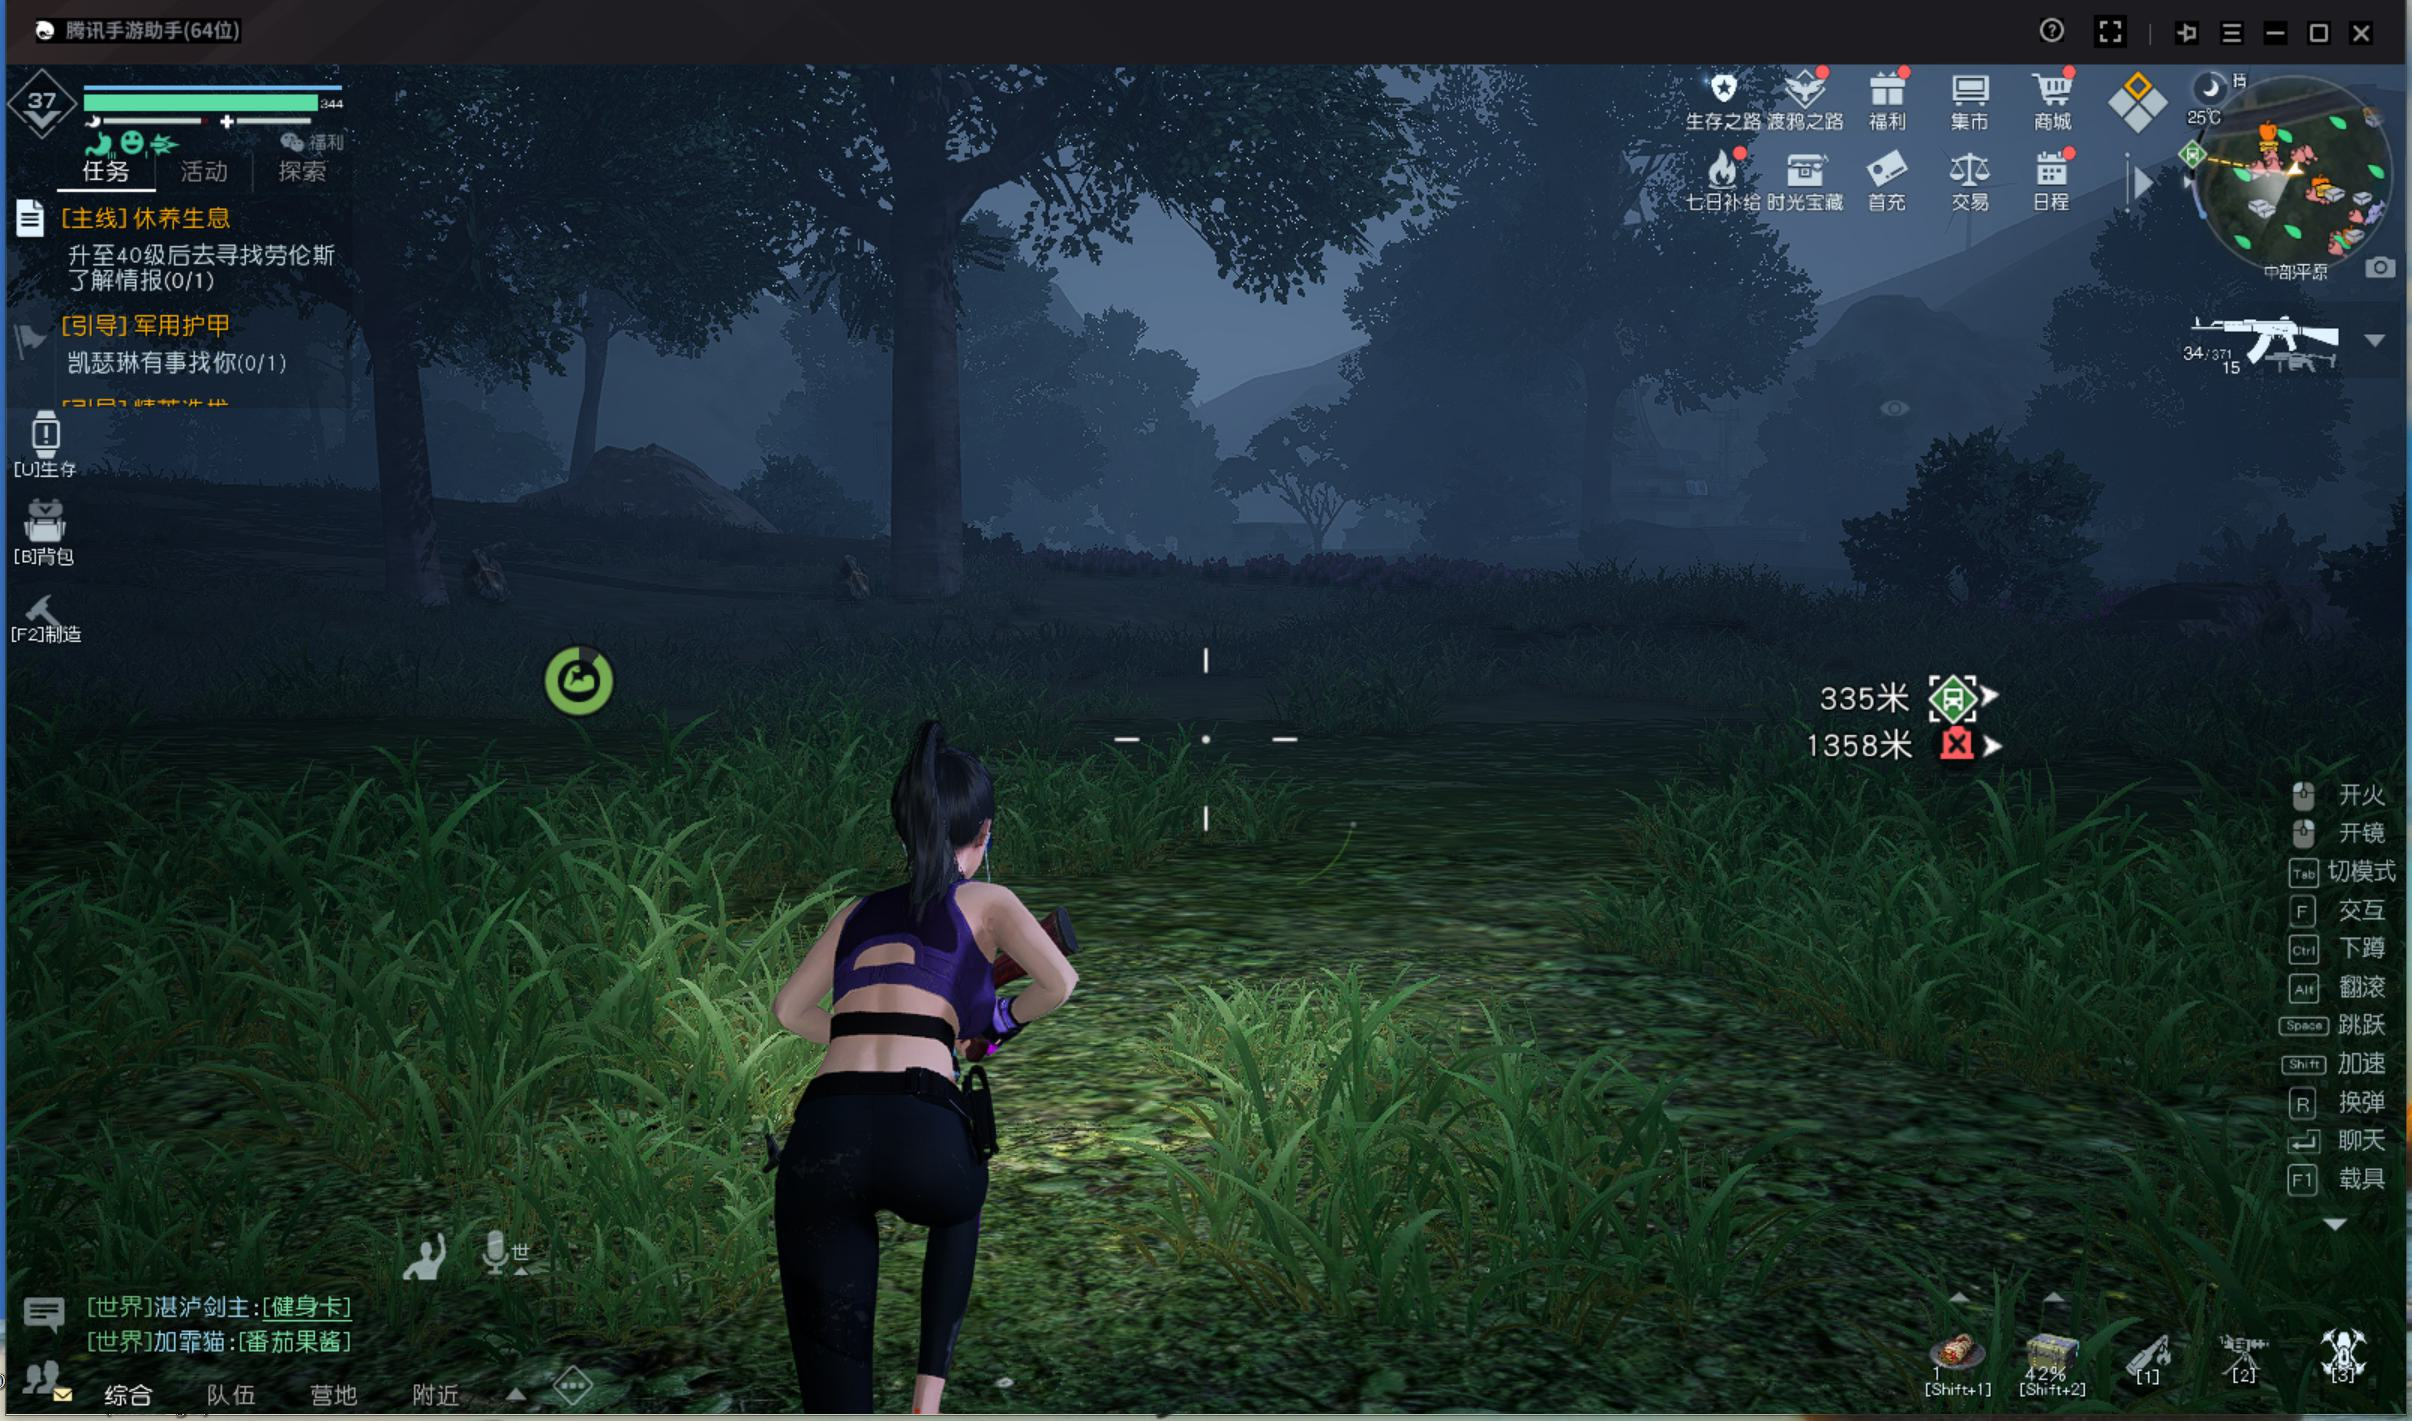stone: (462, 545, 534, 607), (814, 546, 880, 611)
tree: (355, 330, 457, 623), (888, 333, 968, 611), (1570, 401, 1625, 582)
